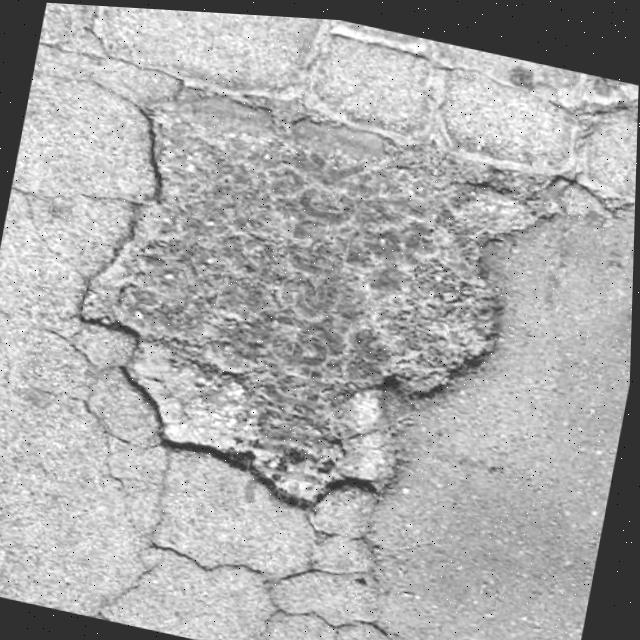Pothole: (46, 59, 549, 548)
